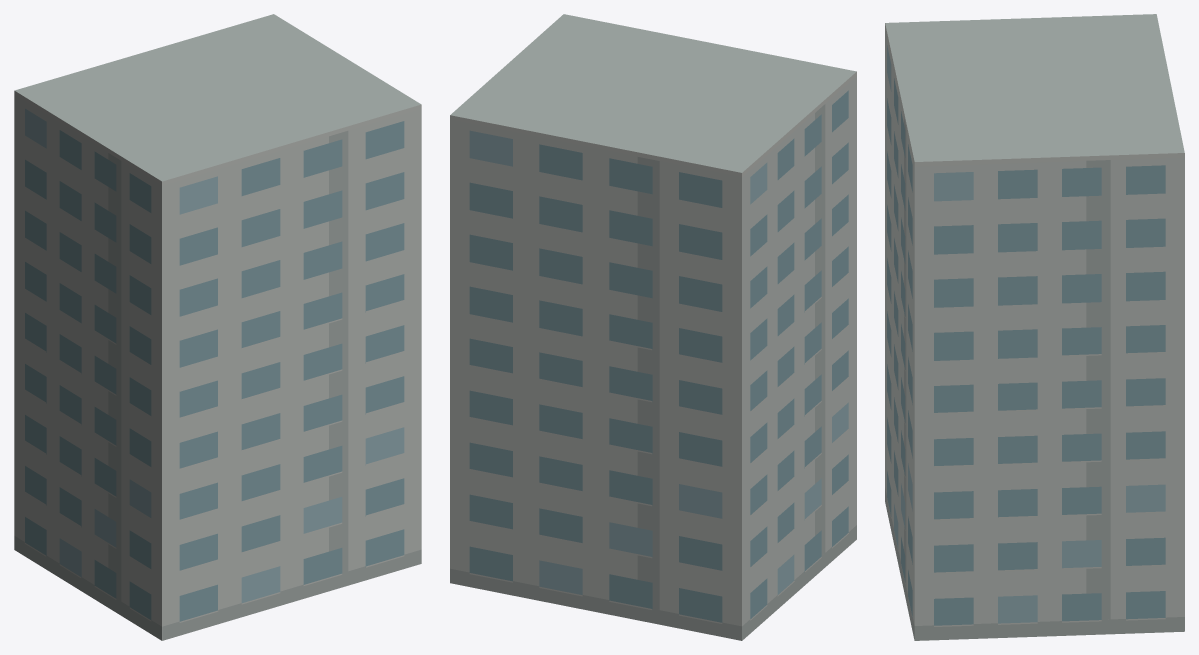
File: survey-upis-33012108.glb
3 views of the same model, side by side, from view 1: azimuth 30°, elevation 25°; view 2: azimuth 150°, elevation 25°; view 3: azimuth 270°, elevation 25° (orthographic). The views are drawn at different scales.
Parts seen in each view (by area): view 1: survey-upis-33012108.tmp; view 2: survey-upis-33012108.tmp; view 3: survey-upis-33012108.tmp.
Part boxes in pixels (bbox=[...]): survey-upis-33012108.tmp: bbox=[14, 14, 421, 640]; survey-upis-33012108.tmp: bbox=[450, 14, 856, 640]; survey-upis-33012108.tmp: bbox=[885, 14, 1184, 640].
Size of the model in its own units: 16.99 by 25.6 by 14.53.
